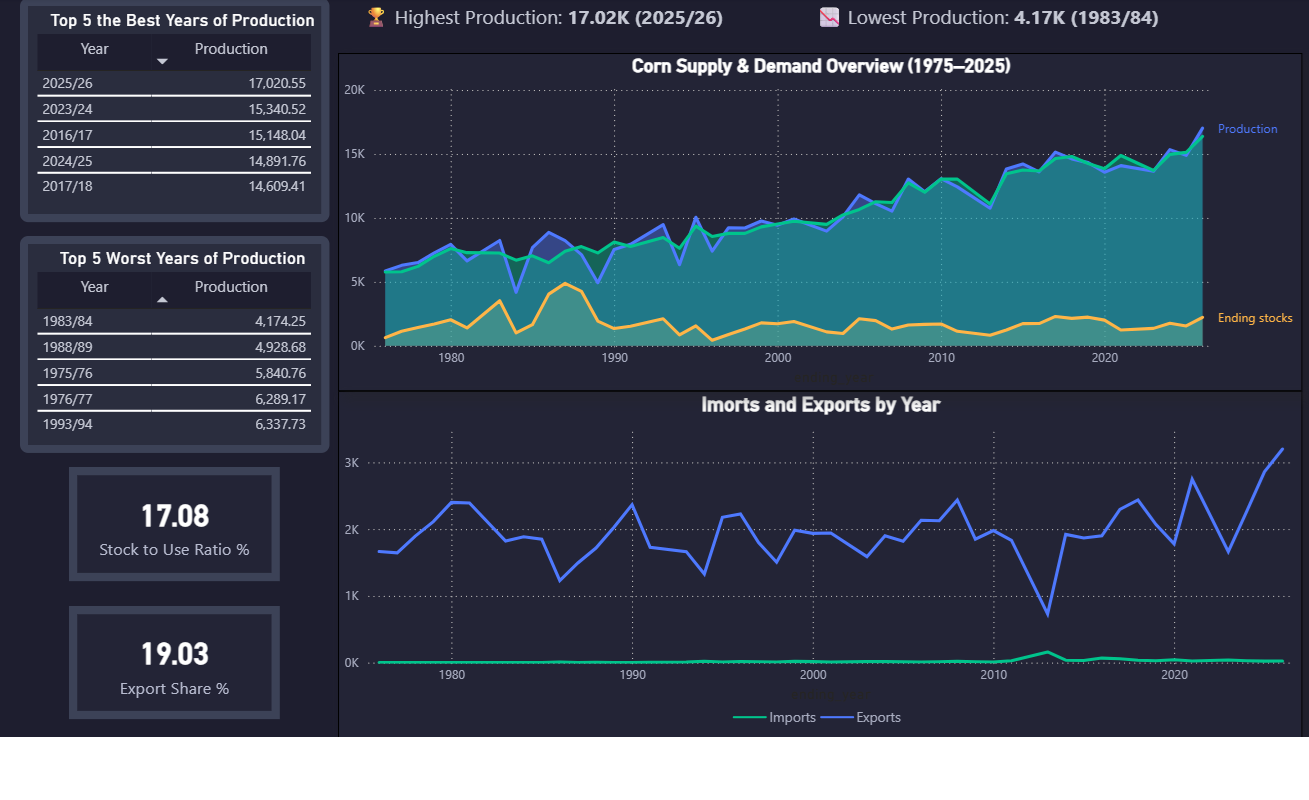

Layout of this report page (visuals, bound fields, positions):
{"tool":"powerbi","page":{"name":"Page 2","canvas":[1280,720],"ordinal":1},"visuals":[{"type":"lineChart","title":"Imorts and Exports by Year","fields":{"Y":["Sum(corn_annual_summary.imports)","Sum(corn_annual_summary.exports)"],"Category":["corn_annual_summary.ending_year"]},"box":[332.6,382.2,937.6,337.5],"z":0},{"type":"tableEx","title":"Top 5 the Best Years of Production","fields":{"Values":["corn_annual_summary.marketing_year","Sum(corn_annual_summary.production)"]},"box":[23.3,0,300.5,217.9],"z":1000},{"type":"tableEx","title":"Top 5 Worst Years of Production","fields":{"Values":["corn_annual_summary.marketing_year","Sum(corn_annual_summary.production)"]},"box":[23.3,231.5,300.5,211.1],"z":2000},{"type":"areaChart","title":"Corn Supply & Demand Overview (1975–2025)","fields":{"Category":["corn_annual_summary.ending_year"],"Y":["Sum(corn_annual_summary.ending_stocks)","Sum(corn_annual_summary.production)","Sum(corn_annual_summary.total_use)"]},"box":[332.6,53.5,937.6,328.8],"z":3000},{"type":"textbox","box":[352.1,0,378.4,53.5],"z":4000},{"type":"textbox","box":[792.7,0,355,53.5],"z":5000},{"type":"card","fields":{"Values":["corn_annual_summary.Stock to Use Ratio %"]},"box":[71,456.2,205.2,110.9],"z":5001},{"type":"card","fields":{"Values":["corn_annual_summary.Export Share %"]},"box":[71,591.4,205.2,109.9],"z":5002}]}

Visuals, with their boxes on the page's 1280x720 design canvas (x1, y1, x2, y2). These are canvas units, not pixel positions in the 1309x800 screenshot, which may show the page scaled, cropped or inside an application window:
"Imorts and Exports by Year" lineChart: select_region(333, 382, 1270, 720)
"Top 5 the Best Years of Production" tableEx: select_region(23, 0, 324, 218)
"Top 5 Worst Years of Production" tableEx: select_region(23, 232, 324, 443)
"Corn Supply & Demand Overview (1975–2025)" areaChart: select_region(333, 54, 1270, 382)
textbox: select_region(352, 0, 730, 54)
textbox: select_region(793, 0, 1148, 54)
card - corn_annual_summary.Stock to Use Ratio %: select_region(71, 456, 276, 567)
card - corn_annual_summary.Export Share %: select_region(71, 591, 276, 701)
